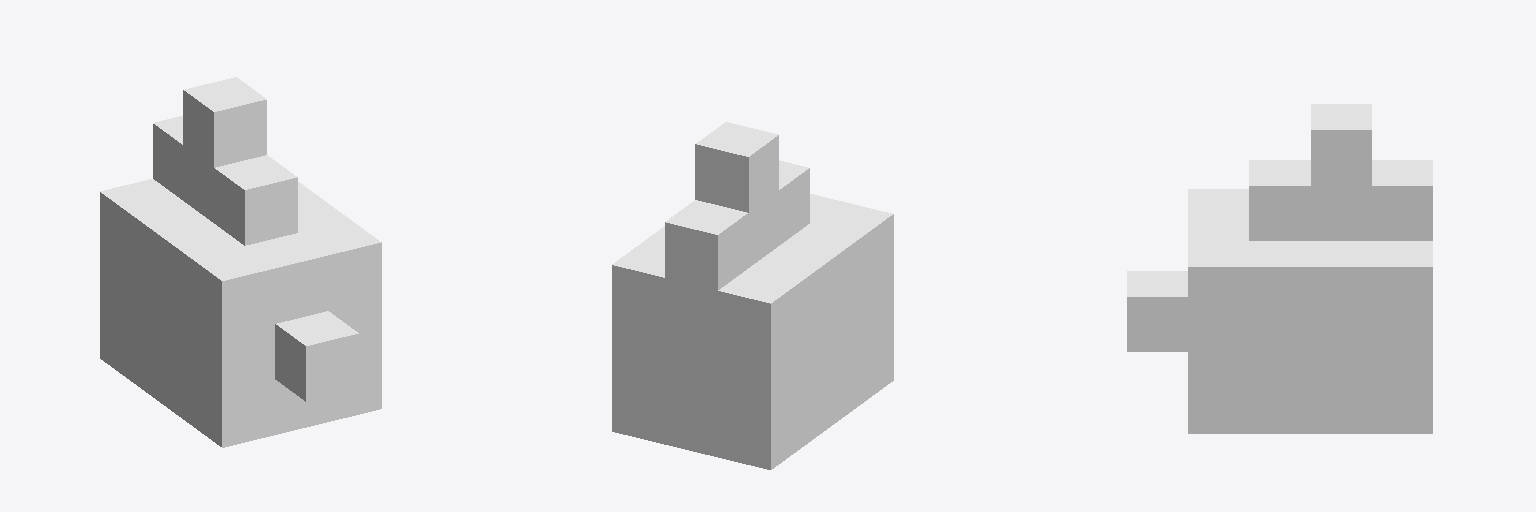
The model's file is gallinita.obj.
3 views of the same model, side by side, from view 1: azimuth 30°, elevation 25°; view 2: azimuth 150°, elevation 25°; view 3: azimuth 270°, elevation 25° (orthographic).
Parts seen in each view (by area): view 1: gallinita; view 2: gallinita; view 3: gallinita.
Boxes of the visible parts, x1,y1,x2,y2 form: gallinita: [100, 77, 381, 447]; gallinita: [612, 122, 893, 469]; gallinita: [1127, 104, 1432, 433].
Size of the model in its own units: 3 by 5 by 5.